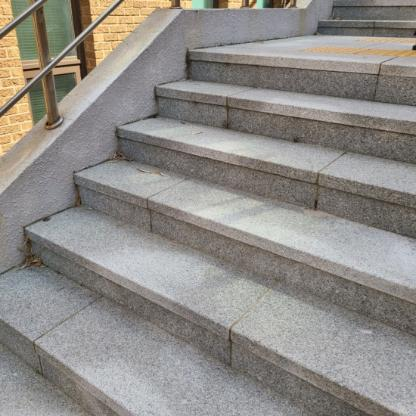stair: (11, 28, 416, 416)
